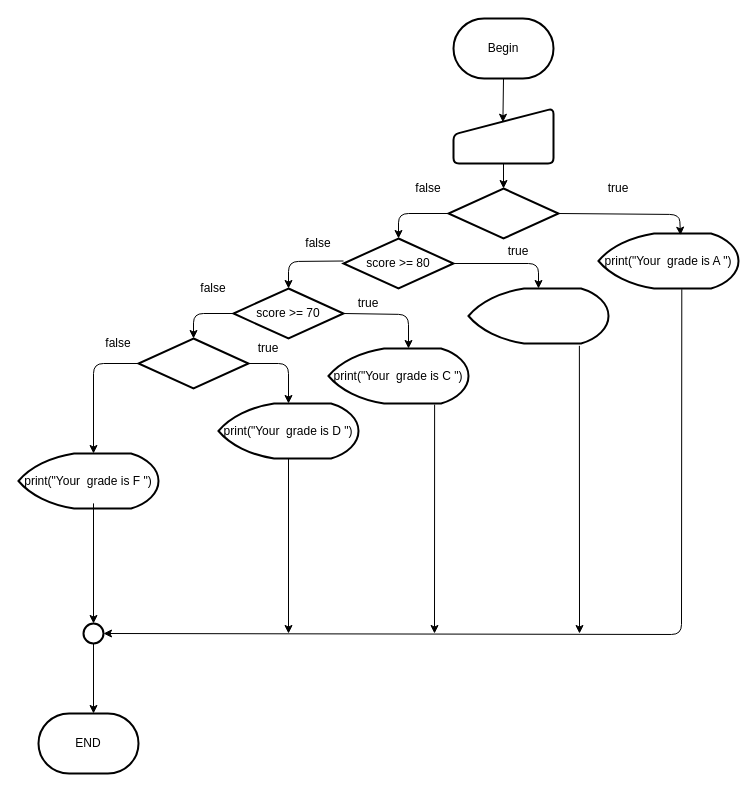
Some shapes in this 756 by 791 pixel diagram are drawn without their labels. Here are the shapes that lost their labels. From the top down, the centre of each, then its label:
(503,135): score
(503,213): score >= 90
(538,315): print("Your grade is B ")
(193,363): score >= 60
